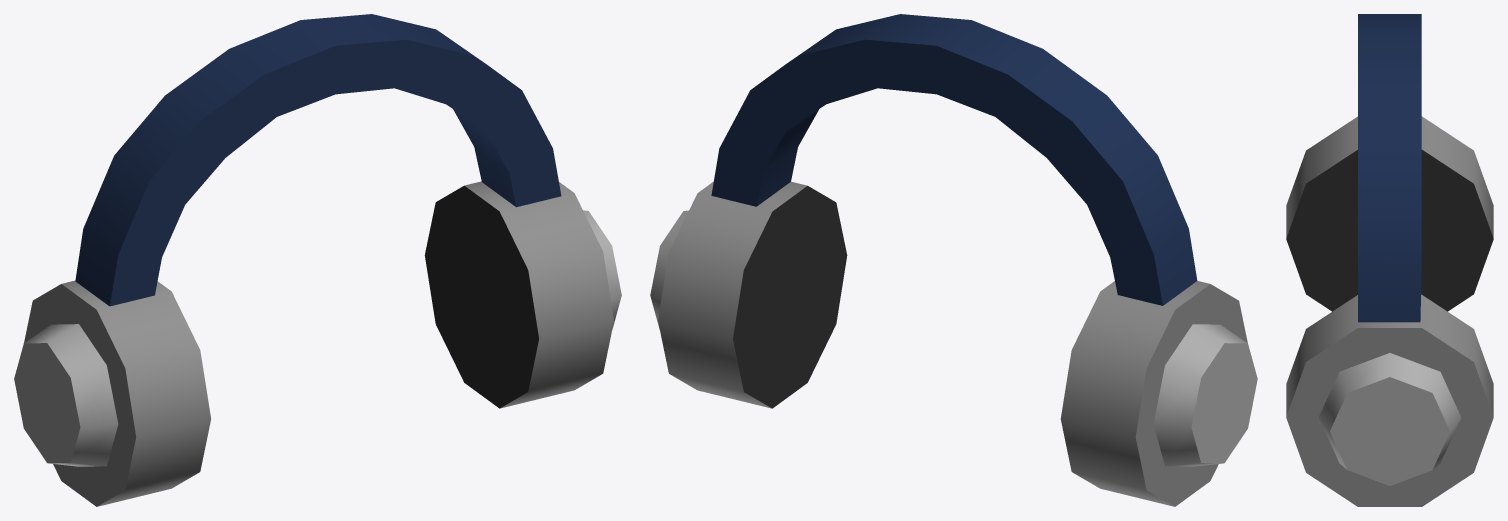
Rendered from gadget_headphones_01.fbx.
3 views of the same model, side by side, from view 1: azimuth 30°, elevation 25°; view 2: azimuth 150°, elevation 25°; view 3: azimuth 270°, elevation 25° (orthographic). The views are drawn at different scales.
Visible parts, largest first — view 1: gadget_headphones_01; view 2: gadget_headphones_01; view 3: gadget_headphones_01.
Part boxes in pixels (<box>): gadget_headphones_01: <box>14,14,621,506</box>; gadget_headphones_01: <box>650,14,1257,506</box>; gadget_headphones_01: <box>1286,14,1493,506</box>.
Size of the model in its own units: 72.95 by 51.87 by 26.7.
